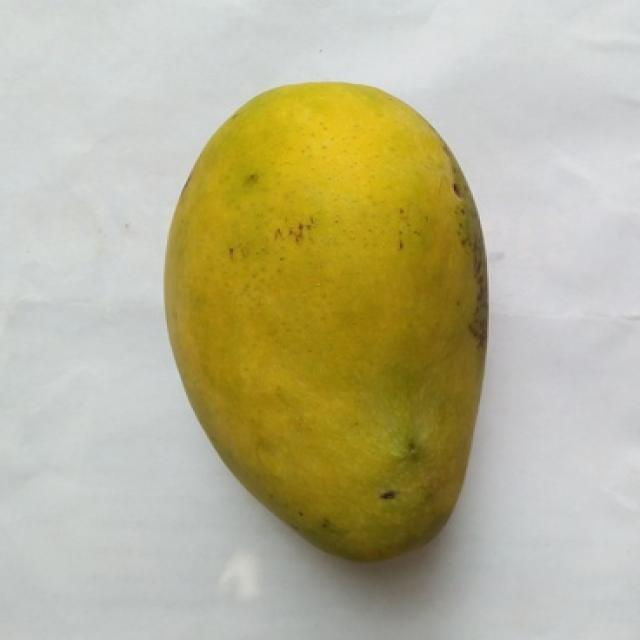Mango: (165, 83, 485, 560)
